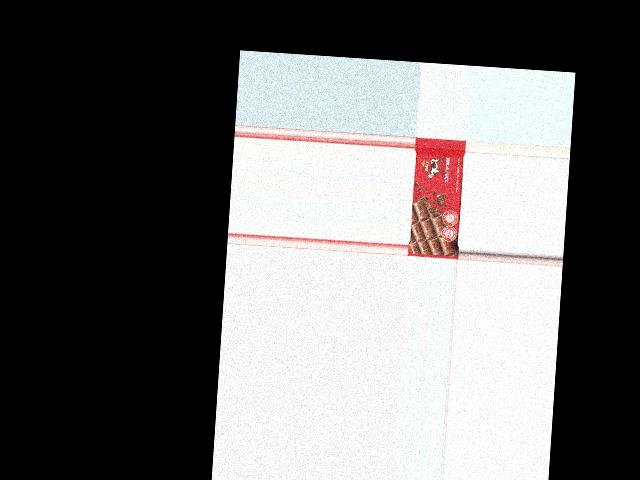chocolate: (408, 136, 466, 258)
